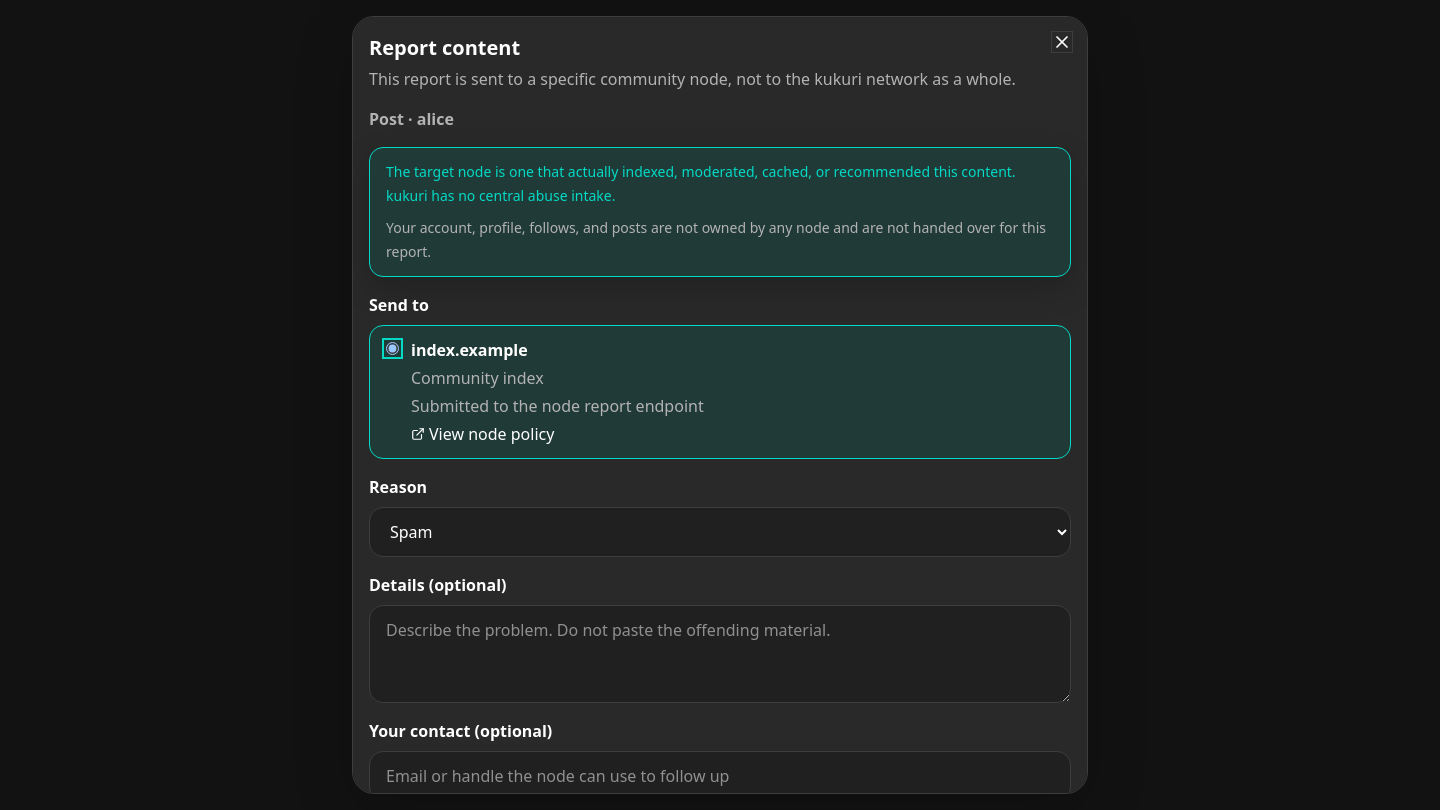
Scenario: routes rights claims to the dedicated scope-first intake without posting a general report
Select "Copyright, privacy, trademark, or other rights" in the dropdown labelled "Reason" at coordinates (720, 532), box 369,507 -> 1071,557
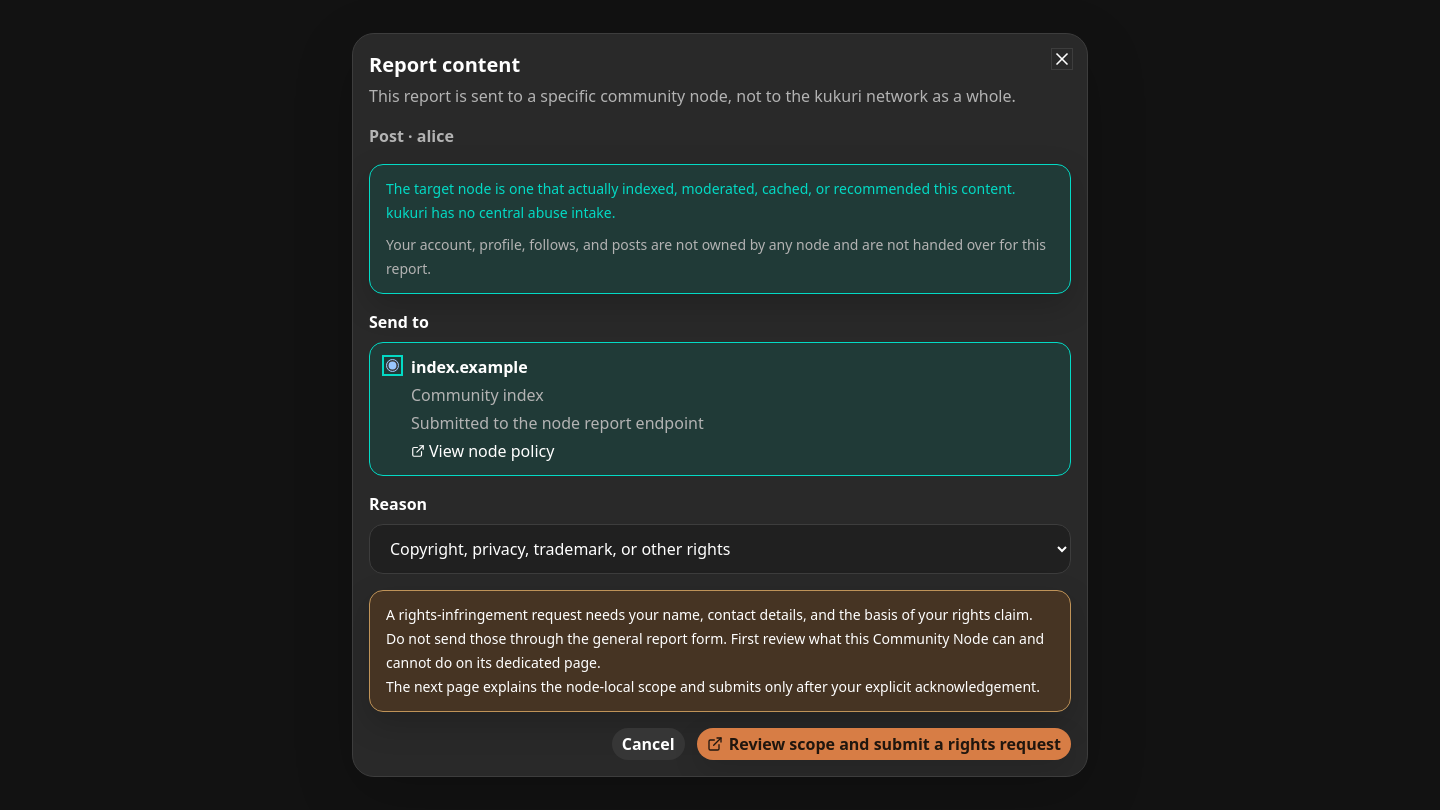
Check: the text "first review what this Community Node can and cannot do" is shown, box 386,605 -> 1044,672
